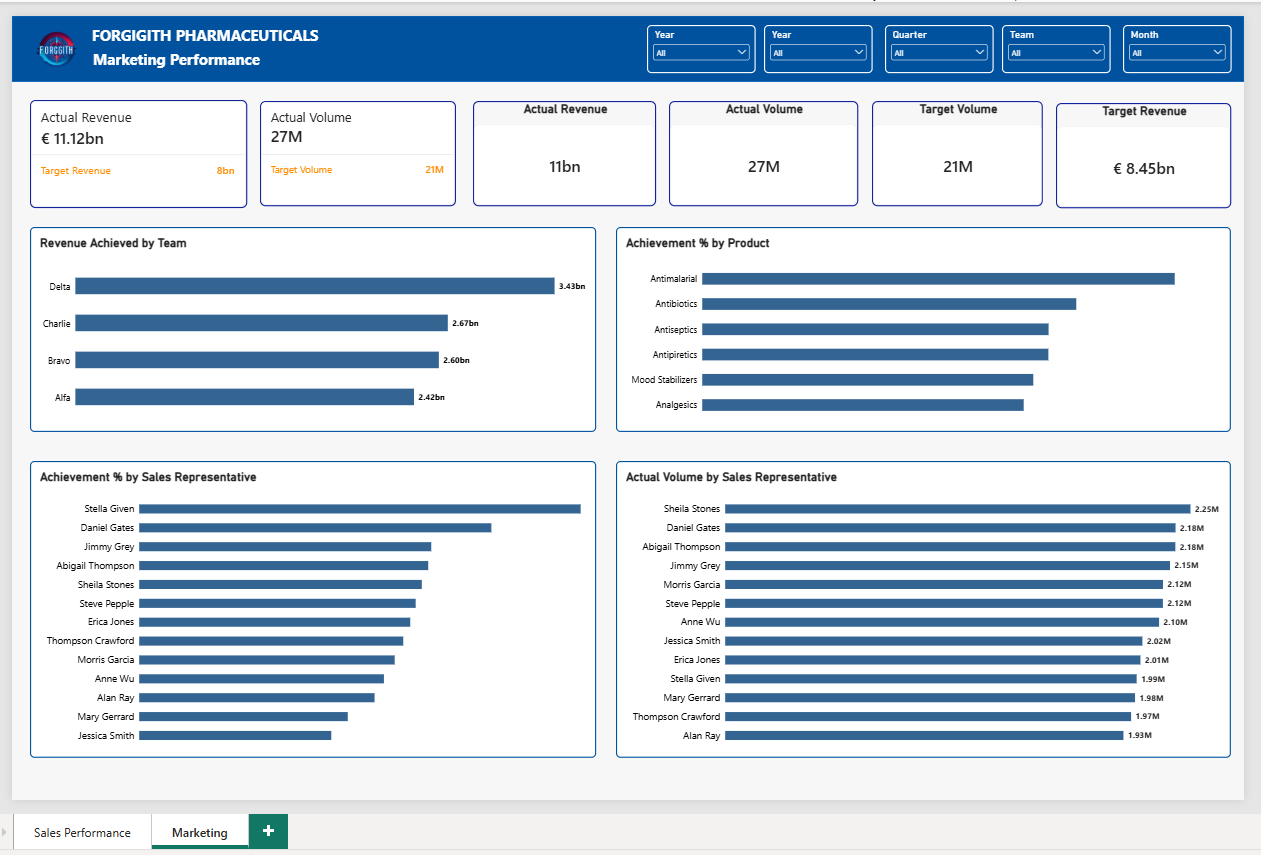

The page's visual inventory and layout, read from the dashboard file:
{"tool":"powerbi","page":{"name":"Marketing","canvas":[2200,1400],"ordinal":1},"visuals":[{"type":"shape","box":[0,0,2200,117.5],"z":0},{"type":"slicer","fields":{"Values":["DimDate.Quarter"]},"box":[1558.7,15.9,193.7,85.7],"z":1000},{"type":"slicer","fields":{"Values":["DimDate.Month"]},"box":[1984.1,15.9,193.7,85.7],"z":2000},{"type":"slicer","fields":{"Values":["DimEmployees.Team"]},"box":[1768.3,15.9,193.7,85.7],"z":3000},{"type":"slicer","fields":{"Values":["DimDate.Year"]},"box":[1342.9,15.9,193.7,85.7],"z":4000},{"type":"clusteredBarChart","title":"Actual Volume by Sales Representative","fields":{"Category":["DimEmployees.Name"],"Y":["MeasureTable.Total Volume"]},"box":[1078.6,794.6,1098.2,530.4],"z":5000},{"type":"clusteredBarChart","title":"Revenue Achieved by Team","fields":{"Category":["DimEmployees.Team"],"Y":["MeasureTable.Total Revenue"]},"box":[32.1,376.8,1010.7,366.1],"z":6000},{"type":"clusteredBarChart","title":"Achievement % by Product","fields":{"Category":["DimProducts.ProductClass"],"Y":["MeasureTable.Achievement %"]},"box":[1078.6,376.8,1098.2,366.1],"z":7000},{"type":"clusteredBarChart","title":"Achievement % by Sales Representative","fields":{"Category":["DimEmployees.Name"],"Y":["MeasureTable.Achievement %"]},"box":[32.1,794.6,1010.7,530.4],"z":8000},{"type":"cardVisual","fields":{"Data":["MeasureTable.Total Revenue"]},"box":[32.1,150,387.5,192.9],"z":9000},{"type":"cardVisual","fields":{"Data":["MeasureTable.Actual Volume"]},"box":[442.9,151.8,350,187.5],"z":10000},{"type":"cardVisual","title":"Actual Volume","fields":{"Data":["MeasureTable.Actual Volume"]},"box":[1173.2,151.8,337.5,187.5],"z":11000},{"type":"cardVisual","title":"Target Revenue","fields":{"Data":["MeasureTable.Target Revenue"]},"box":[1864.3,155.4,312.5,187.5],"z":12000},{"type":"textbox","box":[142.9,16.1,441.1,42.9],"z":13000},{"type":"cardVisual","title":"Target Volume","fields":{"Data":["MeasureTable.Target Volume"]},"box":[1535.7,151.8,305.4,187.5],"z":14000},{"type":"cardVisual","title":"Actual Revenue","fields":{"Data":["MeasureTable.Actual Revenue"]},"box":[823.2,151.8,326.8,187.5],"z":15000},{"type":"textbox","box":[144.6,58.9,350,42.9],"z":16000},{"type":"slicer","fields":{"Values":["DimDate.Year"]},"box":[1133.9,16.1,193.7,85.7],"z":17000},{"type":"image","box":[0,0,158.9,117.9],"z":18000}]}

Visuals, with their boxes on the page's 2200x1400 design canvas (x1, y1, x2, y2). These are canvas units, not pixel positions in the 1261x855 screenshot, which may show the page scaled, cropped or inside an application window:
shape: box=[0, 0, 2200, 118]
slicer - DimDate.Quarter: box=[1559, 16, 1752, 102]
slicer - DimDate.Month: box=[1984, 16, 2178, 102]
slicer - DimEmployees.Team: box=[1768, 16, 1962, 102]
slicer - DimDate.Year: box=[1343, 16, 1537, 102]
"Actual Volume by Sales Representative" clusteredBarChart: box=[1079, 795, 2177, 1325]
"Revenue Achieved by Team" clusteredBarChart: box=[32, 377, 1043, 743]
"Achievement % by Product" clusteredBarChart: box=[1079, 377, 2177, 743]
"Achievement % by Sales Representative" clusteredBarChart: box=[32, 795, 1043, 1325]
cardVisual - MeasureTable.Total Revenue: box=[32, 150, 420, 343]
cardVisual - MeasureTable.Actual Volume: box=[443, 152, 793, 339]
"Actual Volume" cardVisual: box=[1173, 152, 1511, 339]
"Target Revenue" cardVisual: box=[1864, 155, 2177, 343]
textbox: box=[143, 16, 584, 59]
"Target Volume" cardVisual: box=[1536, 152, 1841, 339]
"Actual Revenue" cardVisual: box=[823, 152, 1150, 339]
textbox: box=[145, 59, 495, 102]
slicer - DimDate.Year: box=[1134, 16, 1328, 102]
image: box=[0, 0, 159, 118]
